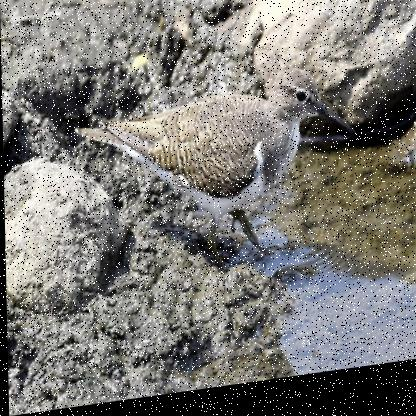Burung: (73, 69, 356, 285)
